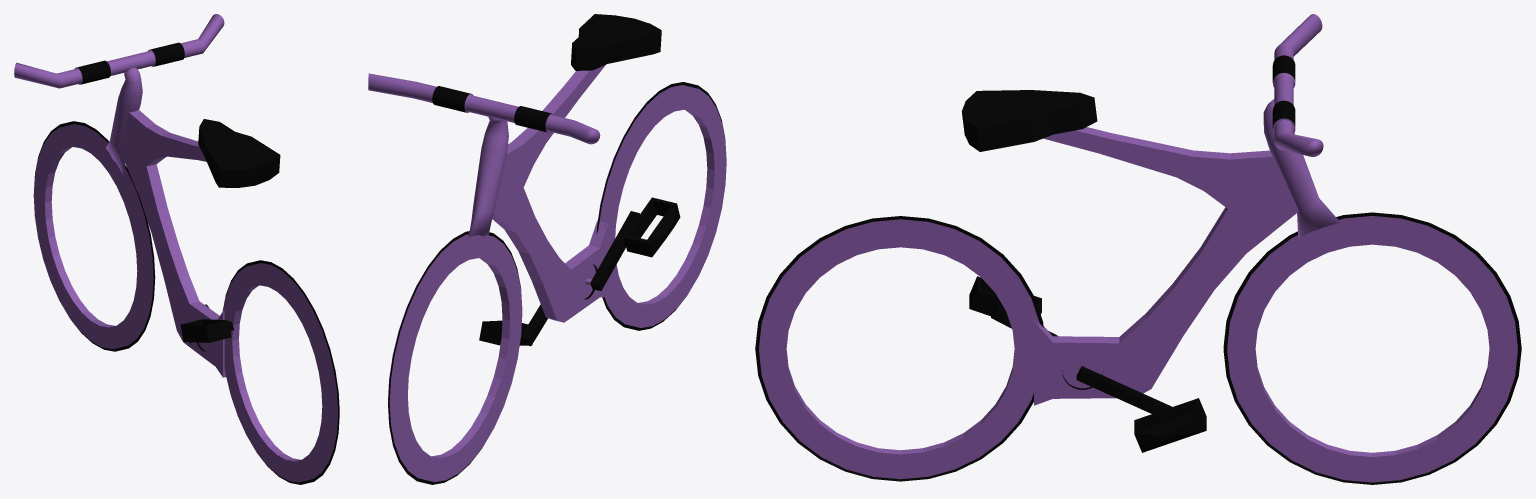
File: bicycle_68225038.glb
3 views of the same model, side by side, from view 1: azimuth 30°, elevation 25°; view 2: azimuth 150°, elevation 25°; view 3: azimuth 270°, elevation 25° (orthographic). The views are drawn at different scales.
Parts seen in each view (by area): view 1: wheel.001, wheel, body, seat, handle, handlestand, Cube.003; view 2: wheel.001, wheel, body, handle, seat, handlestand, Cube.003, Cube.001, Cube.002, Cube; view 3: wheel.001, wheel, body, seat, handle, handlestand, Cube.002, Cube, Cube.003.
Boxes of the visible parts, x1,y1,x2,y2 form: wheel.001: (33,121,155,351); wheel: (222,260,339,484); body: (119,109,225,377); seat: (198,119,280,187); handle: (14,14,224,88); handlestand: (106,67,142,173); Cube.003: (180,319,231,342); wheel.001: (388,231,522,484); wheel: (596,82,726,330); body: (492,65,608,322); handle: (368,73,600,144); seat: (571,14,661,70); handlestand: (468,117,508,237); Cube.003: (624,197,680,257); Cube.001: (590,211,639,290); Cube.002: (479,320,532,345); Cube: (520,304,547,346); wheel.001: (1223,212,1521,484); wheel: (755,216,1043,481); body: (1034,127,1298,405); seat: (961,90,1097,151); handle: (1272,14,1323,156); handlestand: (1263,99,1340,237); Cube.002: (1134,398,1206,452); Cube: (1076,366,1172,413); Cube.003: (969,276,1041,316).
Bounding box in the file's own units: 206 × 302 × 515.
